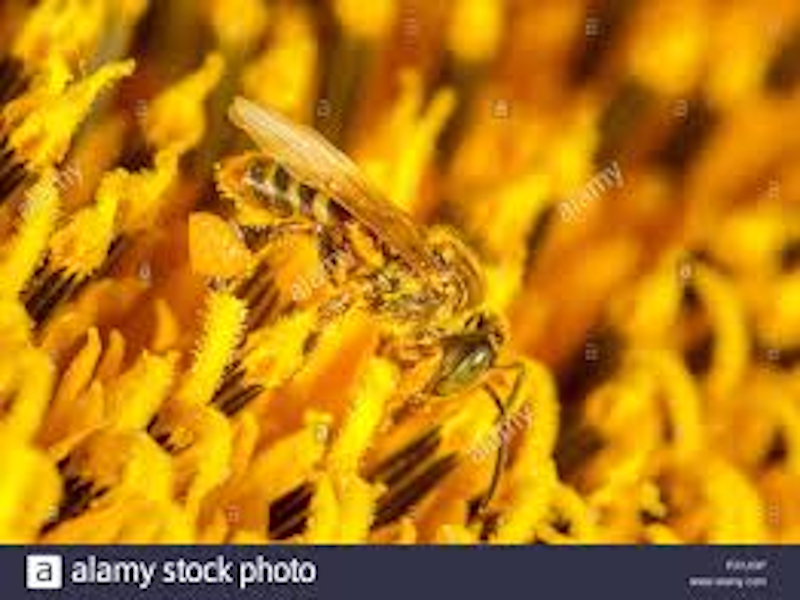abeja: (209, 83, 541, 482)
